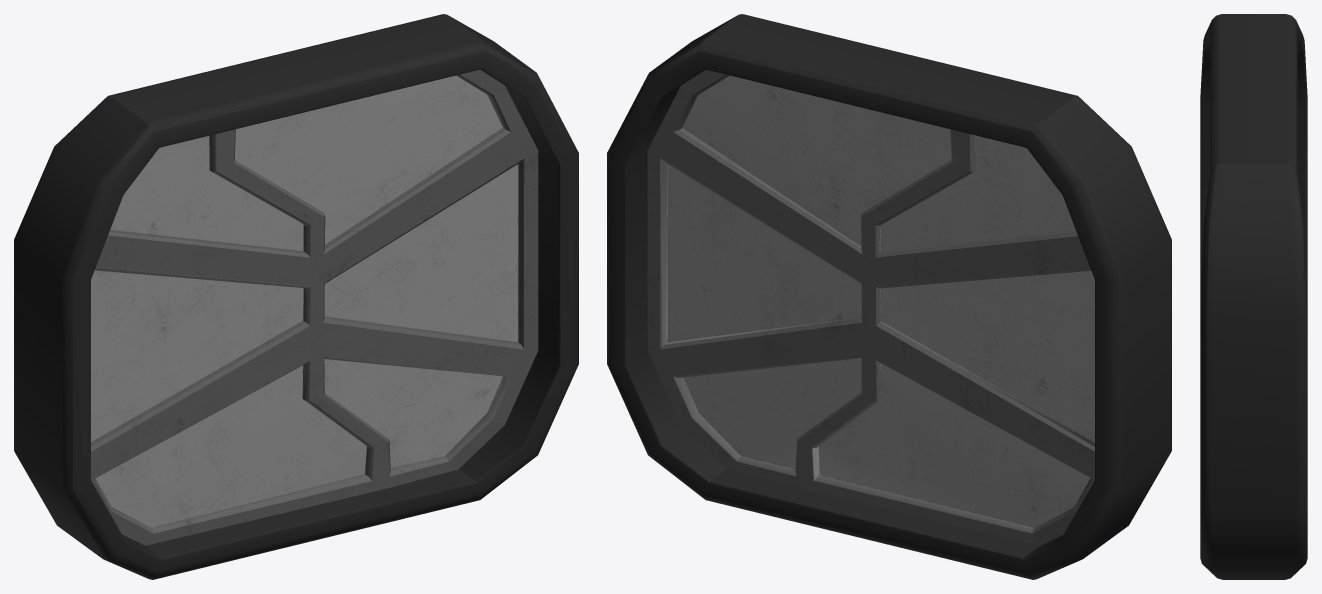
The model's file is Puerta ESC principal_text (1).fbx.
3 views of the same model, side by side, from view 1: azimuth 30°, elevation 25°; view 2: azimuth 150°, elevation 25°; view 3: azimuth 270°, elevation 25° (orthographic). The views are drawn at different scales.
Visible parts, largest first — view 1: marco, derecha, izquierda; view 2: marco, derecha, izquierda; view 3: marco.
Part boxes in pixels (<box>): marco: <box>14,14,578,579</box>; derecha: <box>224,69,538,489</box>; izquierda: <box>91,131,380,545</box>; marco: <box>607,14,1171,579</box>; derecha: <box>647,69,961,489</box>; izquierda: <box>805,131,1094,545</box>; marco: <box>1200,14,1307,579</box>.
Size of the model in its own units: 3.05 by 2.59 by 0.6036.
Materials: 2 (2 with a texture image).
